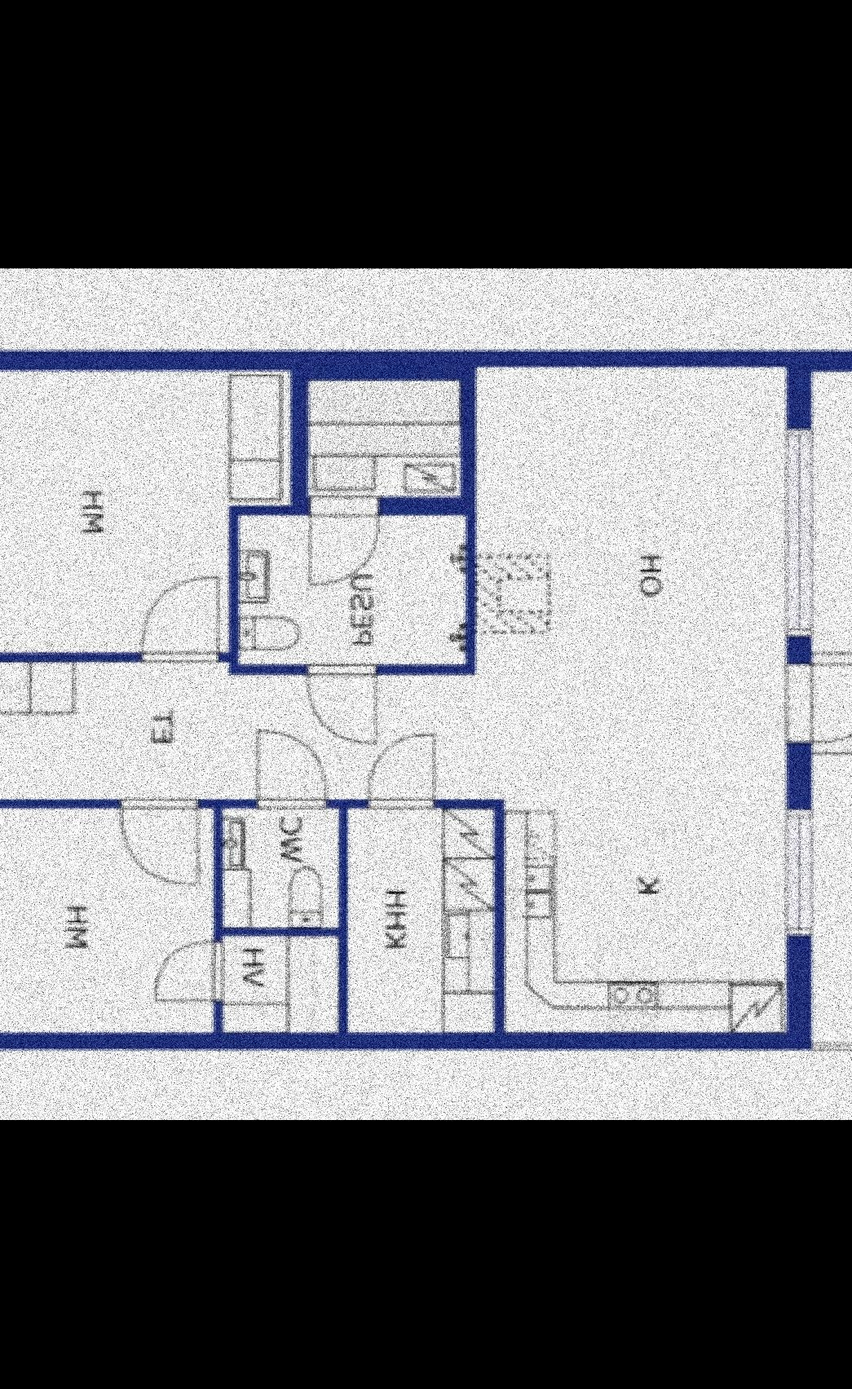door: (140, 577, 226, 664), (299, 498, 380, 590), (783, 652, 852, 758), (252, 728, 330, 816), (119, 798, 198, 883), (362, 728, 440, 814), (308, 658, 379, 747), (147, 938, 225, 1005)
window: (782, 428, 815, 637), (785, 812, 808, 934)
zone: (0, 364, 783, 1034), (0, 375, 288, 647), (0, 807, 217, 1027), (349, 805, 499, 1033), (235, 520, 466, 666), (308, 379, 453, 501), (223, 809, 336, 926), (221, 937, 337, 1033)
